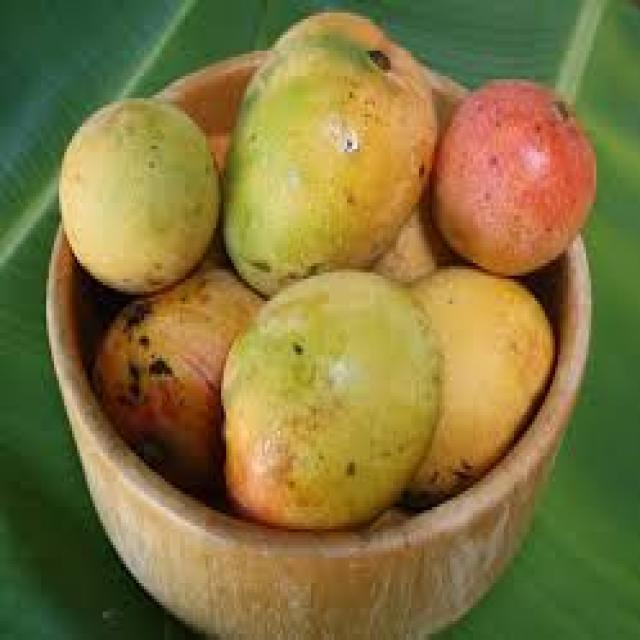Mango: (218, 21, 432, 286), (223, 266, 444, 516), (360, 271, 558, 493), (96, 251, 284, 483), (55, 100, 224, 296), (430, 81, 598, 266)
